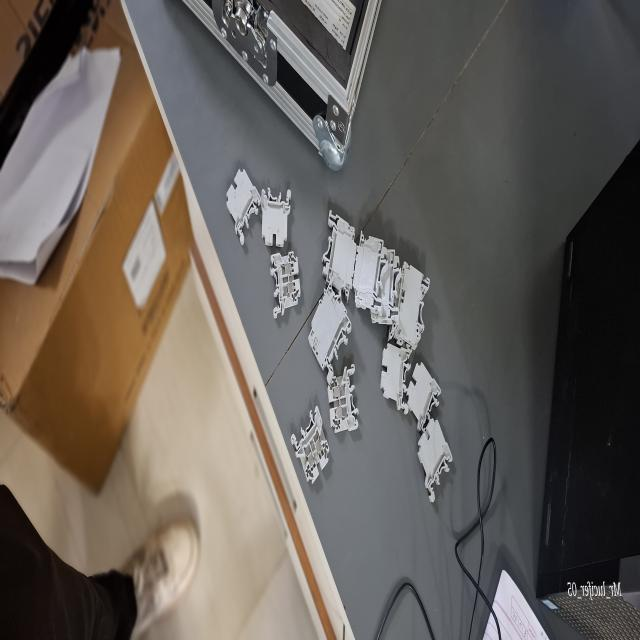Inverted: (416, 416, 454, 508), (225, 168, 262, 248), (404, 359, 442, 432), (378, 342, 412, 416)
Pass: (290, 403, 330, 488), (327, 360, 359, 438), (270, 249, 302, 322)
